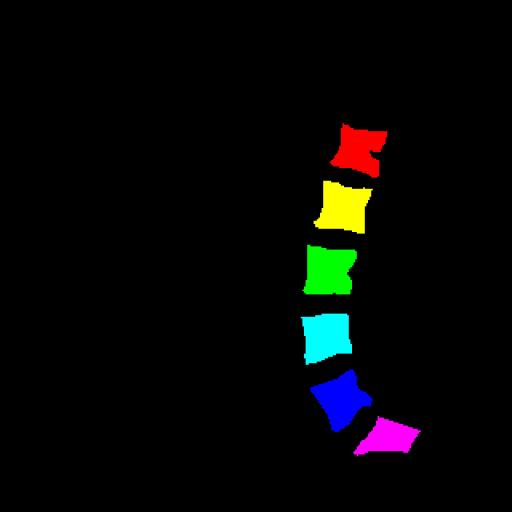L1: (330, 124, 387, 178)
L2: (314, 181, 372, 234)
L3: (303, 245, 357, 294)
L4: (301, 313, 352, 365)
L5: (310, 370, 372, 432)
S1: (354, 417, 420, 455)
